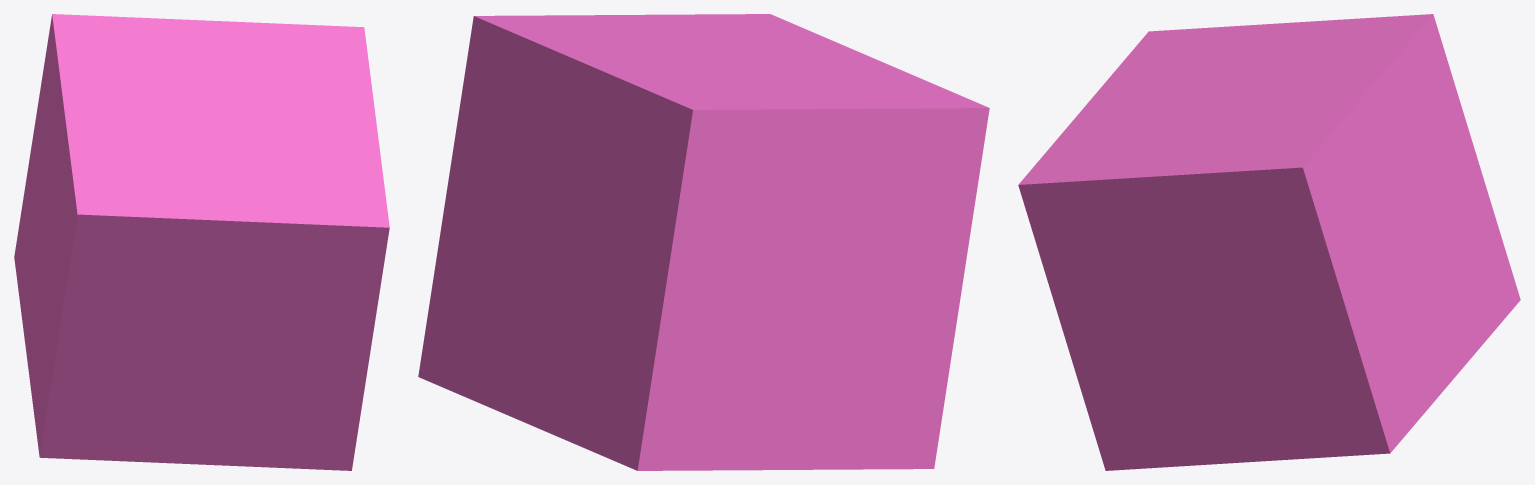
Rendered from InfoExpo_AntonioVigo.gltf.
3 renders of one model, left to right at view 1: azimuth 30°, elevation 25°; view 2: azimuth 150°, elevation 25°; view 3: azimuth 270°, elevation 25°, orthographic. The views are drawn at different scales.
Visible parts, largest first — view 1: InfoExpo_AntonioVigo; view 2: InfoExpo_AntonioVigo; view 3: InfoExpo_AntonioVigo.
Boxes of the visible parts, box(x1,y1,x2,y2) form: InfoExpo_AntonioVigo: box(14, 14, 389, 470); InfoExpo_AntonioVigo: box(418, 14, 989, 470); InfoExpo_AntonioVigo: box(1018, 14, 1520, 470).
Size of the model in its own units: 0.2873 by 0.2812 by 0.3315.
